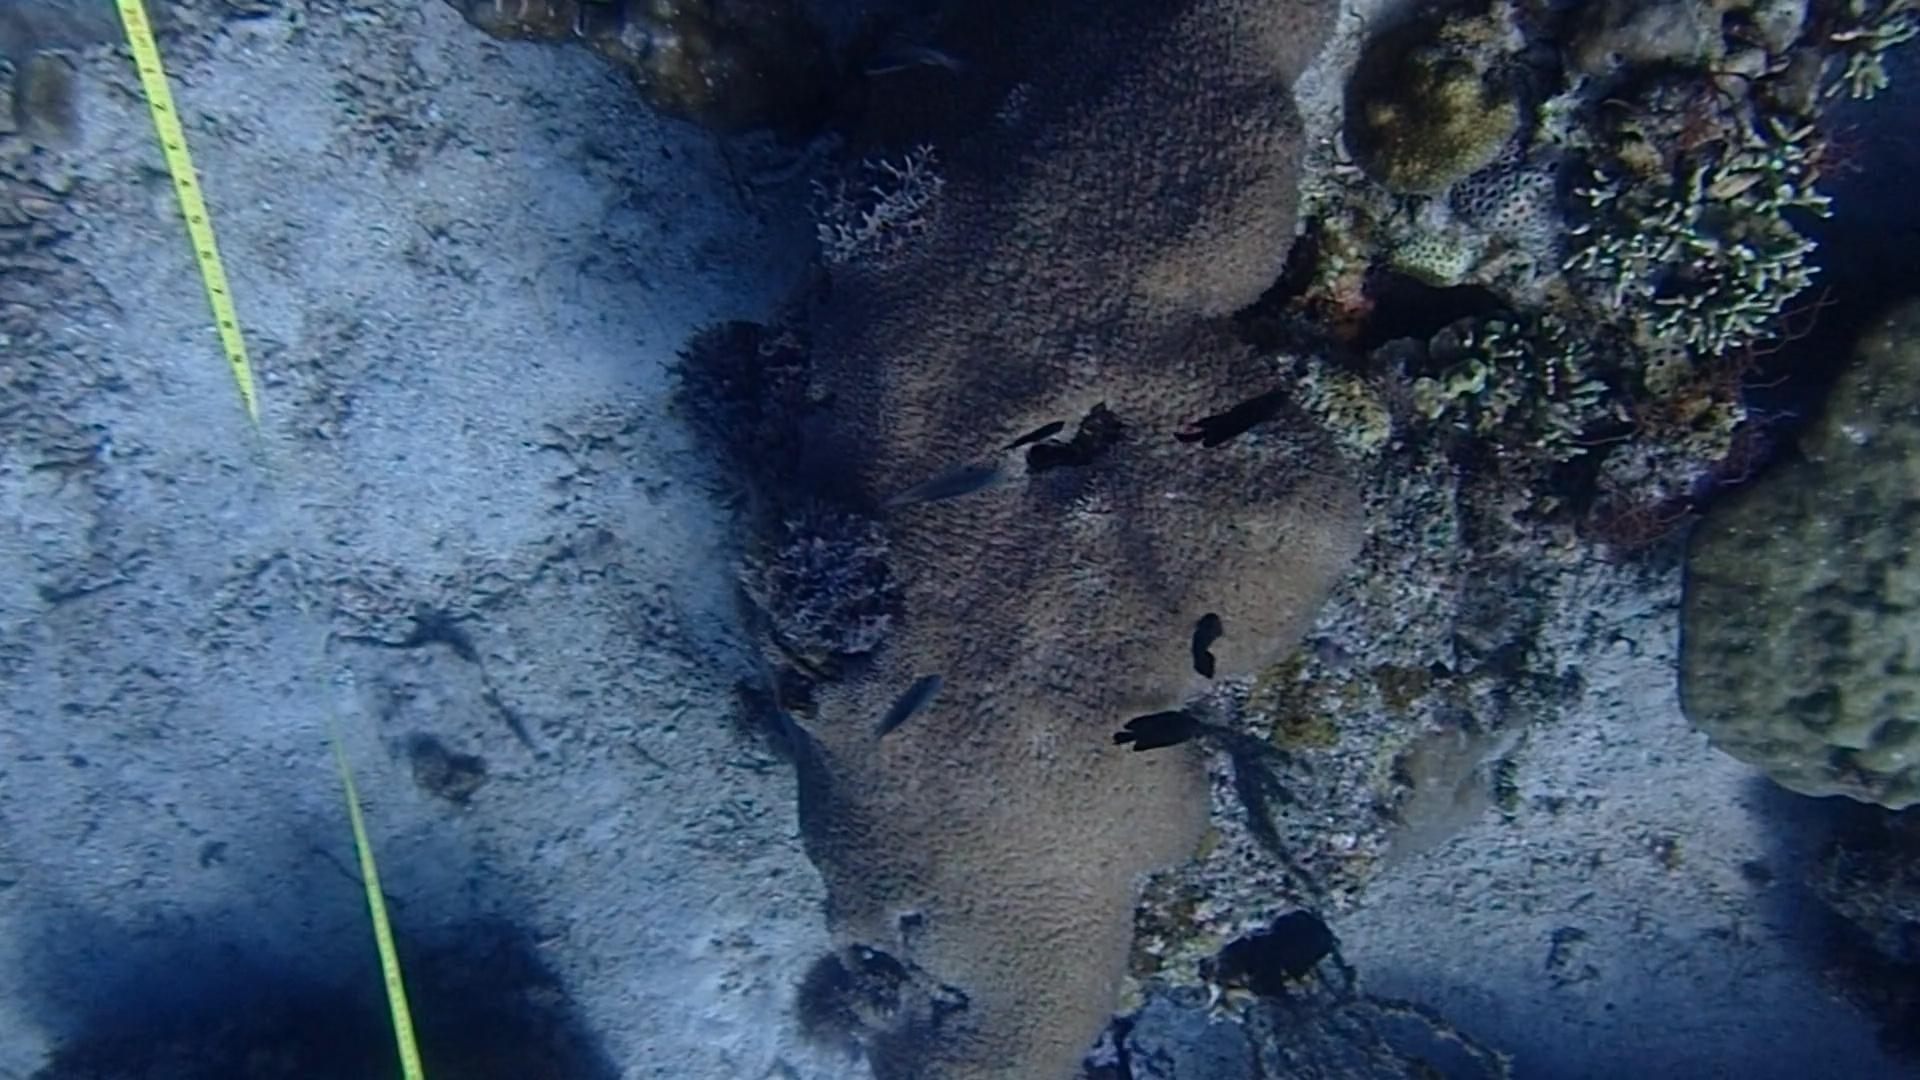Dark Fish: (1171, 384, 1302, 455), (1110, 707, 1208, 761), (1179, 605, 1240, 687), (998, 413, 1064, 455)
Light Fish: (881, 450, 1013, 525), (852, 21, 984, 94), (865, 666, 961, 757)
